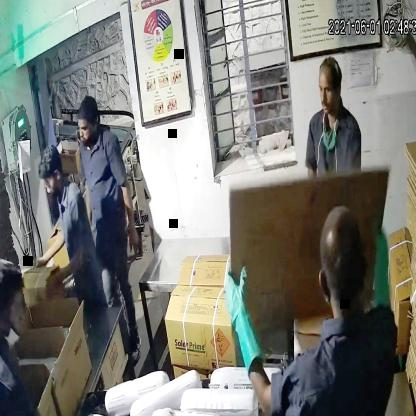no_goggles: (312, 78, 342, 102)
